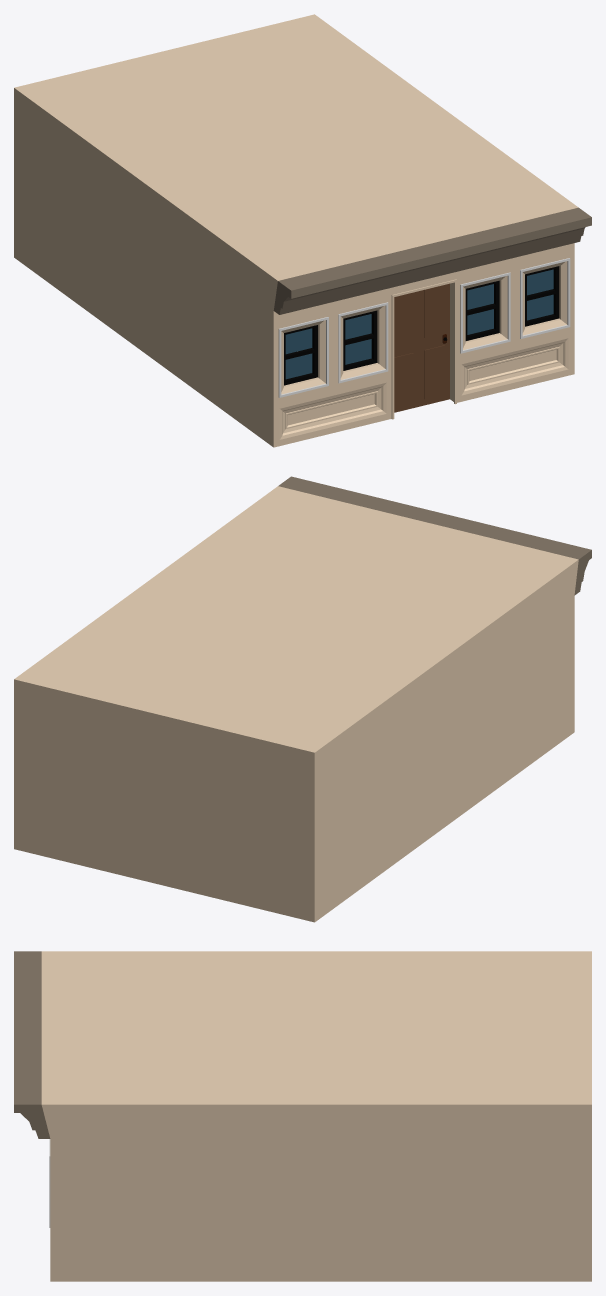
File: Apt8_Base.fbx
3 views of the same model, one above another, from view 1: azimuth 30°, elevation 25°; view 2: azimuth 150°, elevation 25°; view 3: azimuth 270°, elevation 25° (orthographic). The views are drawn at different scales.
Visible parts, largest first — view 1: Apt8_Base_Main, Apt8_Base_Border, Apt8_Base_Door, Apt8_Base_Windows, Apt8_Base_Frame, Apt8_Base_OuterFrame; view 2: Apt8_Base_Main, Apt8_Base_Border; view 3: Apt8_Base_Main, Apt8_Base_Border.
Part boxes in pixels (x1,y1,x2,y2): Apt8_Base_Main: [14, 14, 578, 447]; Apt8_Base_Border: [273, 207, 591, 314]; Apt8_Base_Door: [394, 283, 449, 412]; Apt8_Base_Windows: [285, 269, 553, 379]; Apt8_Base_Frame: [284, 266, 559, 385]; Apt8_Base_OuterFrame: [278, 258, 570, 397]; Apt8_Base_Main: [14, 486, 578, 922]; Apt8_Base_Border: [278, 476, 591, 595]; Apt8_Base_Main: [41, 951, 591, 1281]; Apt8_Base_Border: [14, 951, 50, 1138].
Size of the model in its own units: 590 by 319 by 942.
